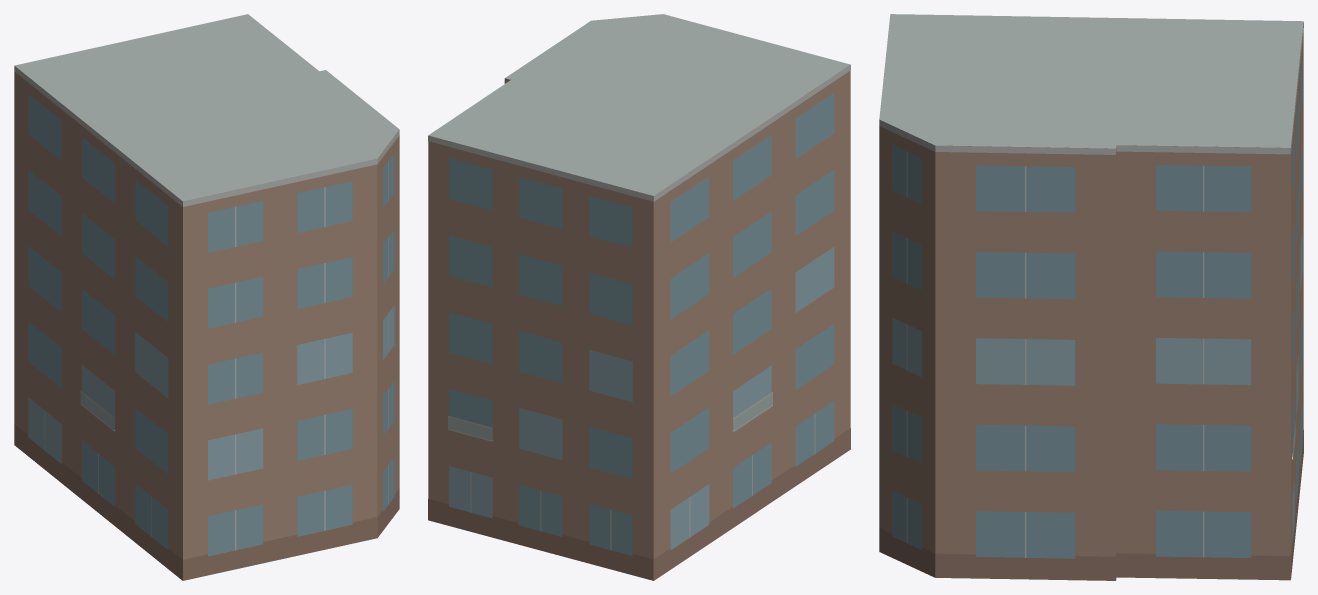
The model's file is survey-upis-32910961.glb.
The picture shows the model from 3 angles, left to right: view 1: azimuth 30°, elevation 25°; view 2: azimuth 150°, elevation 25°; view 3: azimuth 270°, elevation 25°; orthographic projection. The views are drawn at different scales.
Visible parts, largest first — view 1: survey-upis-32910961.tmp; view 2: survey-upis-32910961.tmp; view 3: survey-upis-32910961.tmp.
Boxes of the visible parts, left/top/right/bottom form: survey-upis-32910961.tmp: left=14, top=14, right=399, bottom=580; survey-upis-32910961.tmp: left=428, top=14, right=850, bottom=580; survey-upis-32910961.tmp: left=879, top=14, right=1303, bottom=580.
Bounding box in the file's own units: 10.96 × 16.4 × 14.6.
